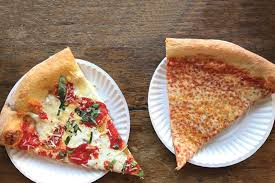pizza: (11, 48, 143, 183), (157, 33, 275, 164)
